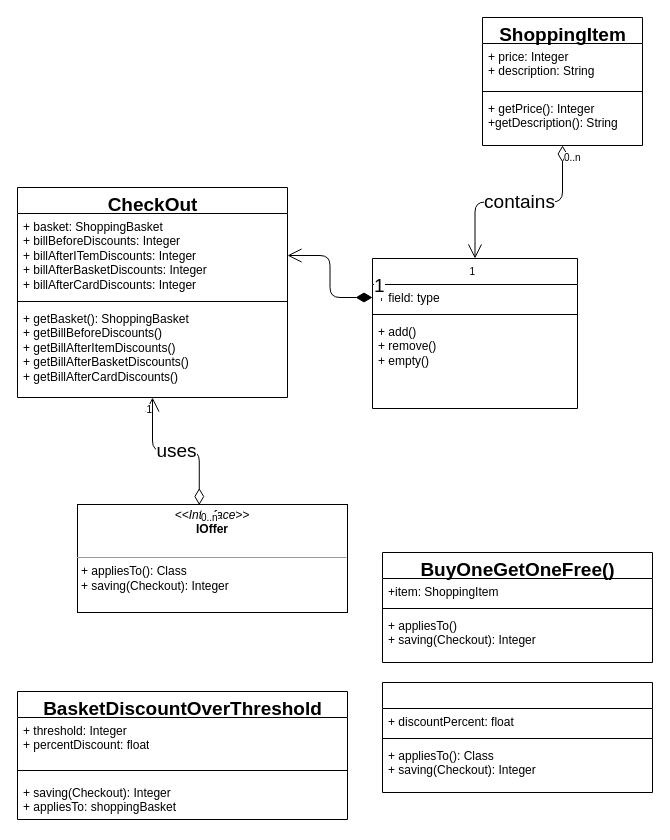
Image size: 670x840. Some labels were removed from this diagram. Each missing label, with the box of its shape:
LoyaltyCard: (382, 682, 652, 792)
ShoppingBasket: (372, 258, 578, 408)
